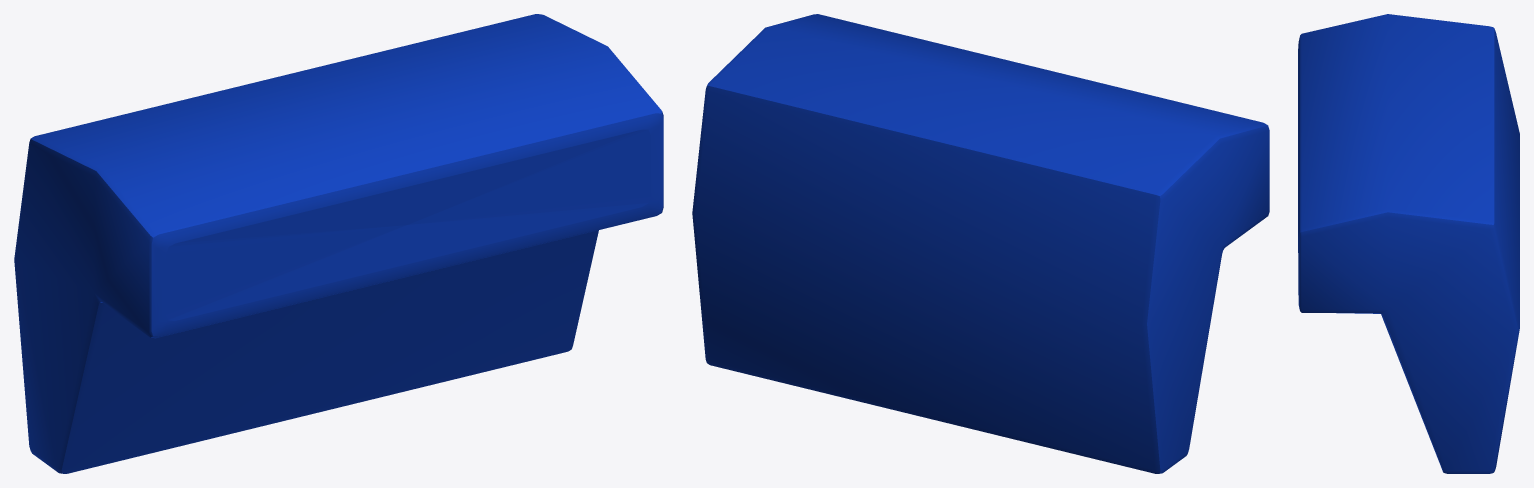
File: WeaponBase.fbx
3 renders of one model, left to right at view 1: azimuth 30°, elevation 25°; view 2: azimuth 150°, elevation 25°; view 3: azimuth 270°, elevation 25°, orthographic. The views are drawn at different scales.
Parts seen in each view (by area): view 1: WeaponBase; view 2: WeaponBase; view 3: WeaponBase.
Boxes of the visible parts, <box> form: WeaponBase: <box>14,14,663,473</box>; WeaponBase: <box>692,14,1269,473</box>; WeaponBase: <box>1298,14,1519,473</box>.
Bounding box in the file's own units: 92.27 × 57.02 × 43.35.
